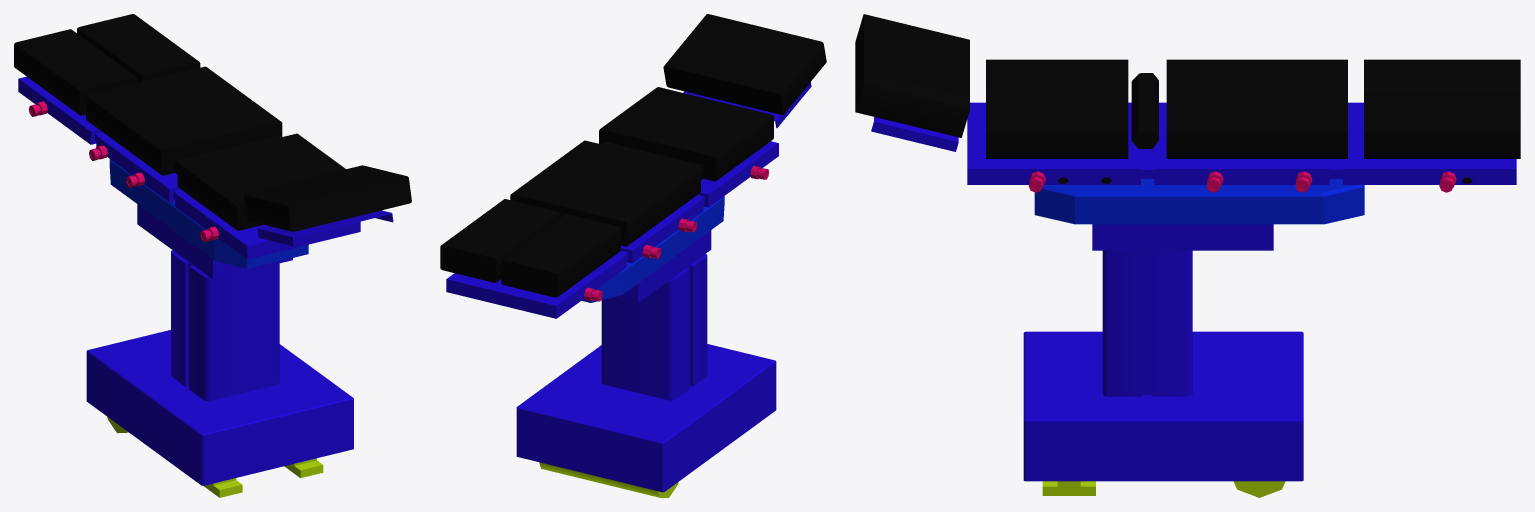
The model's file is operatingtable.fbx.
3 views of the same model, side by side, from view 1: azimuth 30°, elevation 25°; view 2: azimuth 150°, elevation 25°; view 3: azimuth 270°, elevation 25° (orthographic). The views are drawn at different scales.
Parts seen in each view (by area): view 1: 수술대; view 2: 수술대; view 3: 수술대.
Boxes of the visible parts, x1=… form: 수술대: x1=14, y1=14, x2=411, y2=497; 수술대: x1=440, y1=14, x2=826, y2=497; 수술대: x1=855, y1=14, x2=1520, y2=497.
Bounding box in the file's own units: 59.54 × 130 × 188.
